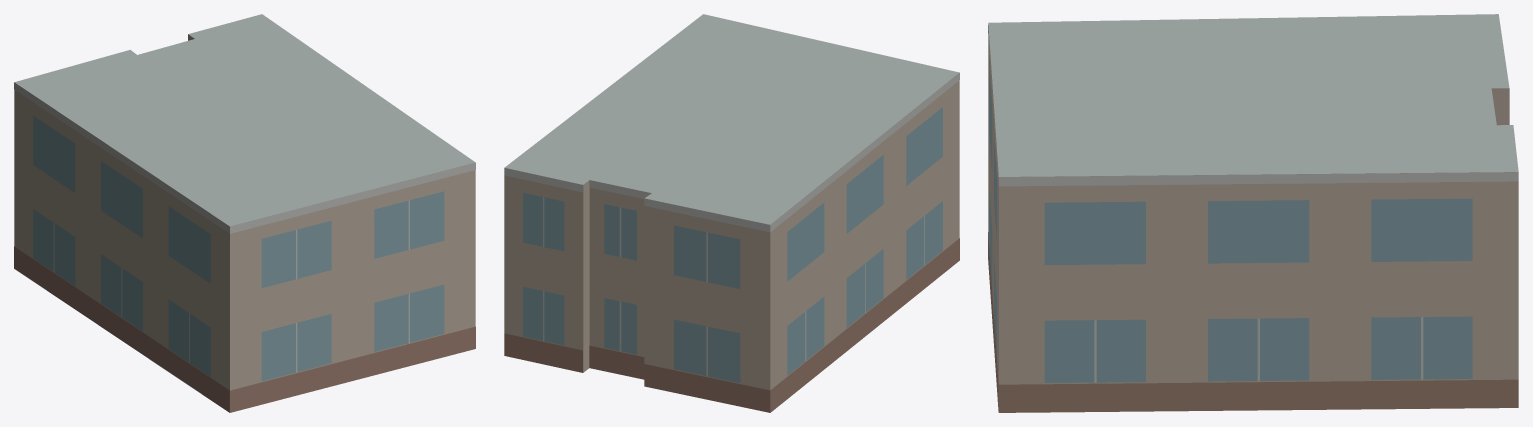
The model's file is survey-upis-32686354.glb.
3 renders of one model, left to right at view 1: azimuth 30°, elevation 25°; view 2: azimuth 150°, elevation 25°; view 3: azimuth 270°, elevation 25°, orthographic. The views are drawn at different scales.
Parts seen in each view (by area): view 1: survey-upis-32686354.tmp; view 2: survey-upis-32686354.tmp; view 3: survey-upis-32686354.tmp.
Boxes of the visible parts, x1,y1,x2,y2 form: survey-upis-32686354.tmp: [14, 14, 475, 412]; survey-upis-32686354.tmp: [504, 14, 959, 412]; survey-upis-32686354.tmp: [988, 14, 1518, 412].
Size of the model in its own units: 9.05 by 6.1 by 12.44.
